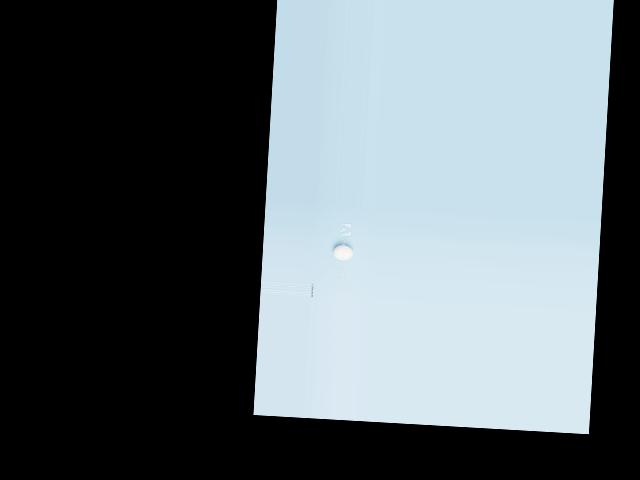egg: (332, 244, 352, 261)
